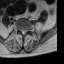CCS_normal: (22, 28, 24, 36)
LFS_stenosis: (26, 27, 28, 33)
LLS_normal: (24, 28, 26, 34)
RFS_normal: (18, 27, 20, 32)
RLS_normal: (20, 28, 22, 34)
